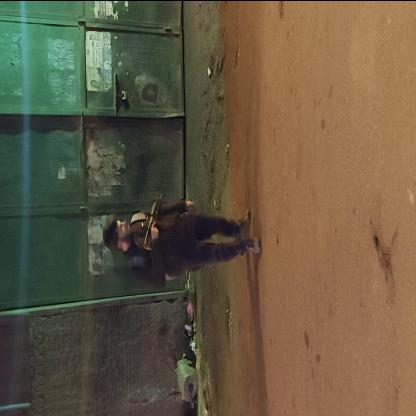long weapon: (139, 183, 170, 257)
